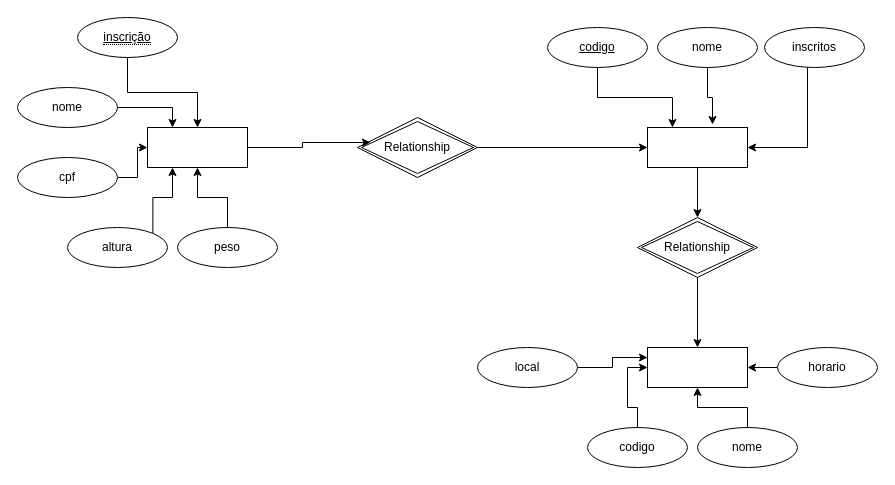
The diagram is 895 pixels wide and 485 high, and some of its shapes have lost their labels. Here are the shapes that lost their labels. From the top down, the centre of each, then its label:
At (197,147): "atleta".
At (697,147): "modalidade".
At (697,367): "campeonato".
